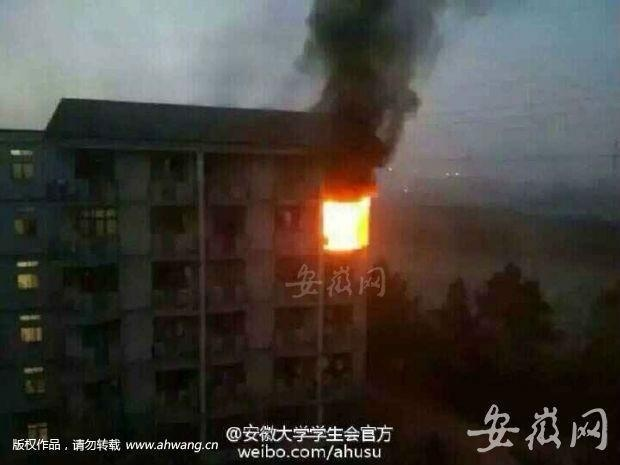fire: (321, 192, 372, 250)
